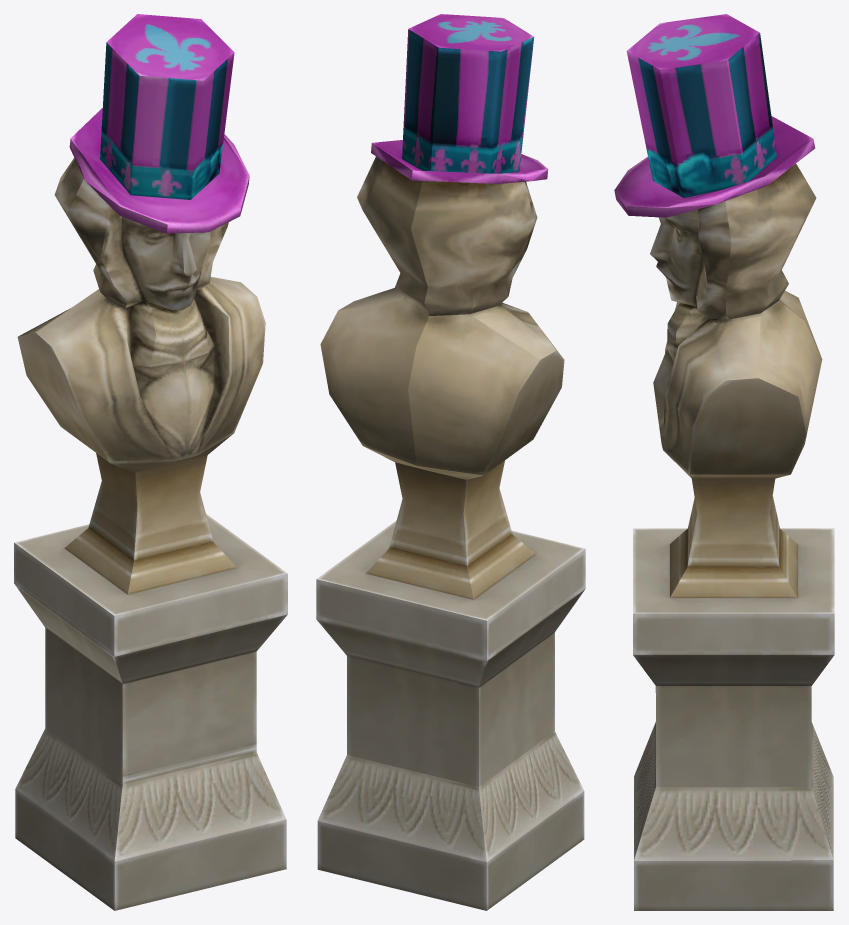
Rendered from busto.fbx.
3 views of the same model, side by side, from view 1: azimuth 30°, elevation 25°; view 2: azimuth 150°, elevation 25°; view 3: azimuth 270°, elevation 25° (orthographic). The views are drawn at different scales.
Parts seen in each view (by area): view 1: s4studio_mesh_1; view 2: s4studio_mesh_1; view 3: s4studio_mesh_1.
Part boxes in pixels (x1,y1,x2,y2): s4studio_mesh_1: (14,14,287,910); s4studio_mesh_1: (316,14,585,910); s4studio_mesh_1: (614,14,834,910).
Bounding box in the file's own units: 45.67 × 176 × 42.08.
1 material, 1 textured.
